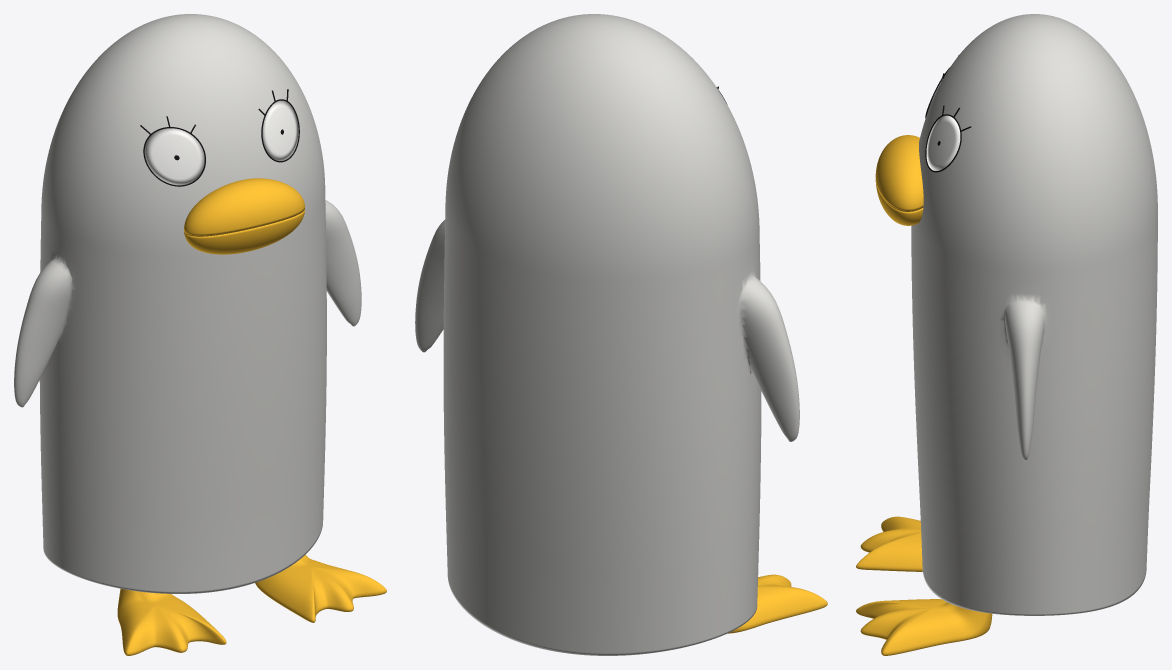
File: elizabeth-static.adb37551d64b.glb
3 renders of one model, left to right at view 1: azimuth 30°, elevation 25°; view 2: azimuth 150°, elevation 25°; view 3: azimuth 270°, elevation 25°, orthographic. The views are drawn at different scales.
Parts seen in each view (by area): view 1: ContinuousShell, BeakUpper, WebFootL, WebFootR, EyeWhiteL, BeakLower, EyeWhiteR; view 2: ContinuousShell, WebFootL; view 3: ContinuousShell, WebFootR, BeakUpper, WebFootL, EyeWhiteR, BeakLower.
Part boxes in pixels (bbox=[...]): ContinuousShell: bbox=[14, 14, 361, 593]; BeakUpper: bbox=[184, 178, 304, 235]; WebFootL: bbox=[117, 588, 226, 655]; WebFootR: bbox=[255, 554, 386, 622]; EyeWhiteL: bbox=[144, 128, 204, 185]; BeakLower: bbox=[184, 209, 304, 254]; EyeWhiteR: bbox=[262, 100, 298, 160]; ContinuousShell: bbox=[415, 14, 799, 655]; WebFootL: bbox=[728, 574, 827, 633]; ContinuousShell: bbox=[911, 14, 1157, 615]; WebFootR: bbox=[856, 599, 992, 655]; BeakUpper: bbox=[875, 135, 923, 211]; WebFootL: bbox=[856, 516, 922, 571]; EyeWhiteR: bbox=[926, 115, 960, 170]; BeakLower: bbox=[875, 180, 923, 225].
Bounding box in the file's own units: 1.97 × 2.99 × 1.44.
